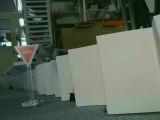stop: (12, 44, 41, 68)
